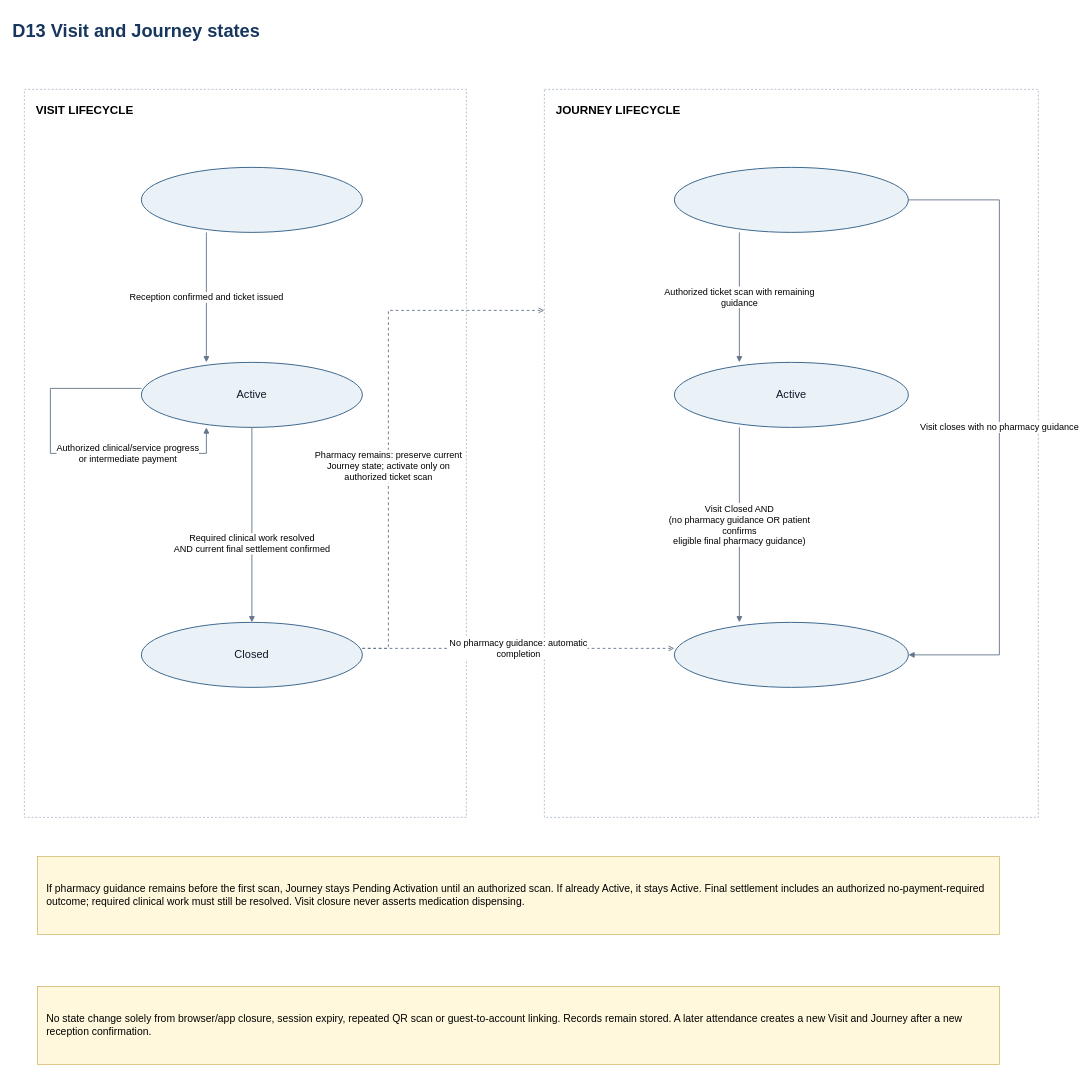
The diagram is 1089 pixels wide and 1076 high, and some of its shapes have lost their labels. The shapes that lost their labels are listed below. From the top down, each one's centre as x and y in pixels, then its label:
At (252,200): "No Visit".
At (791,200): "Pending Activation".
At (791,655): "Completed".
